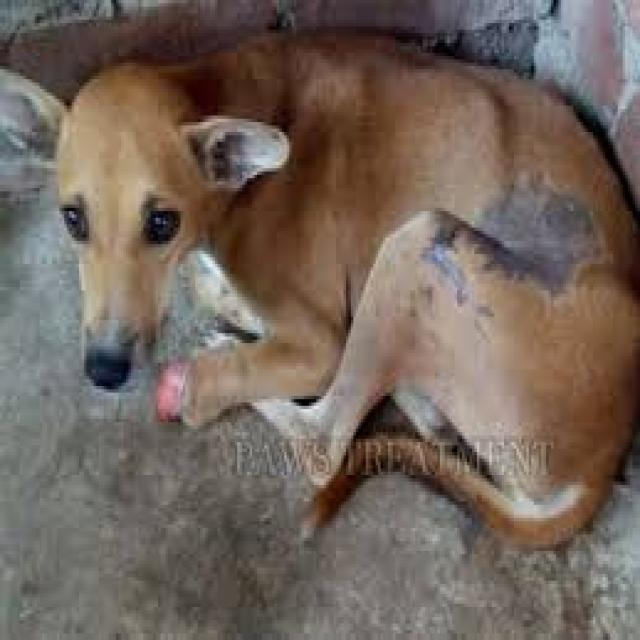injured-animals: (0, 20, 638, 557)
